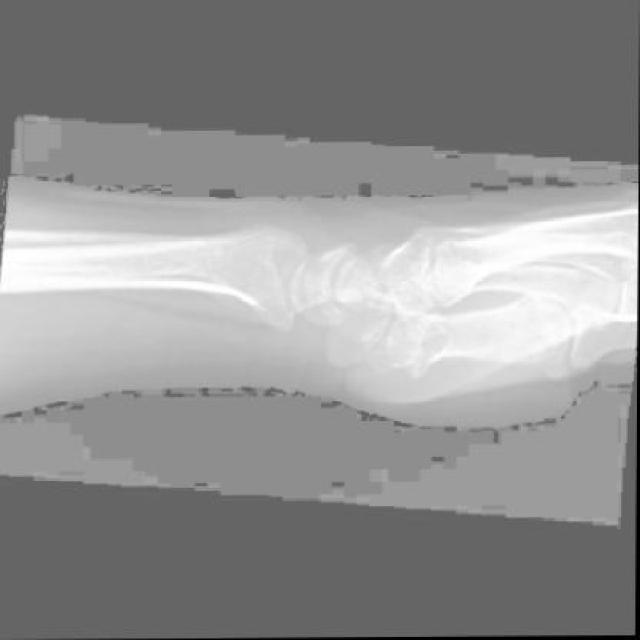Fracture: (359, 232, 404, 268)
